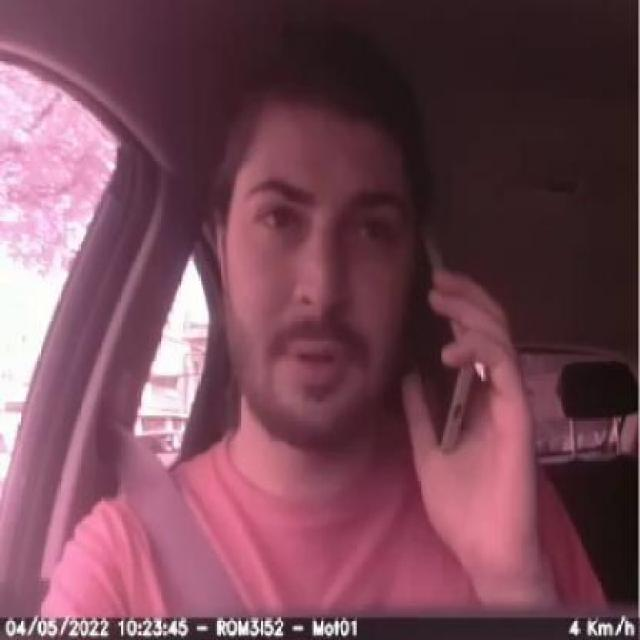using_phone: (331, 178, 558, 480)
